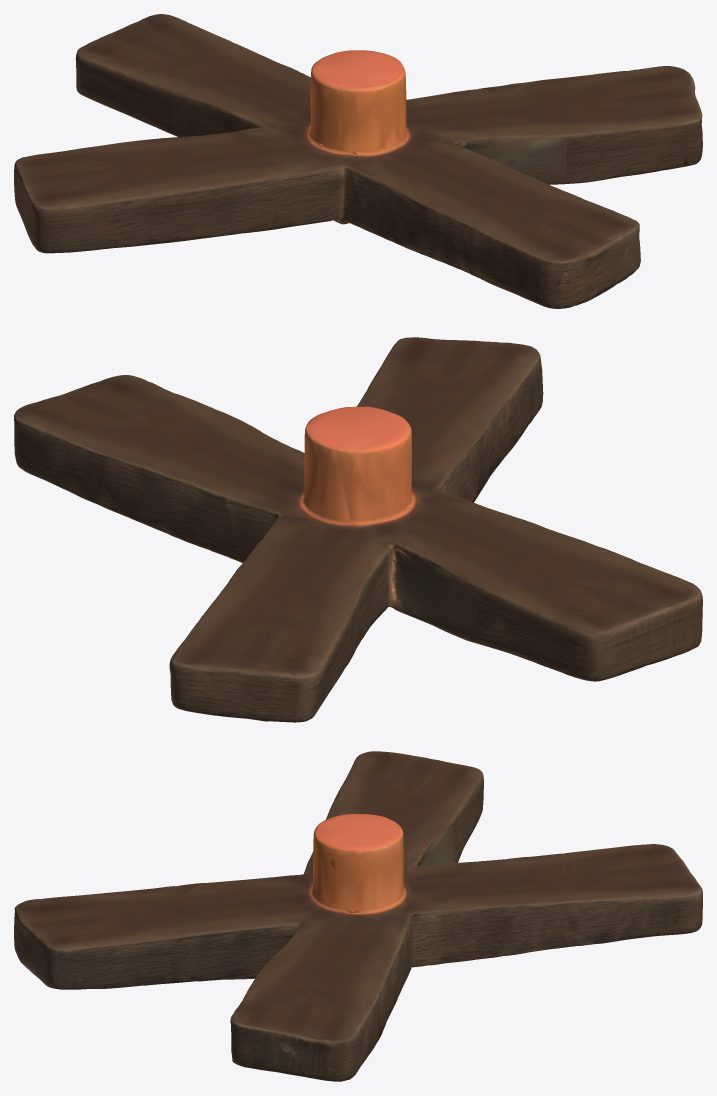
Rendered from spinner_arms.glb.
3 views of the same model, one above another, from view 1: azimuth 30°, elevation 25°; view 2: azimuth 150°, elevation 25°; view 3: azimuth 270°, elevation 25° (orthographic). The views are drawn at different scales.
Size of the model in its own units: 2 by 0.3899 by 2.
Materials: 1 (1 with a texture image).
